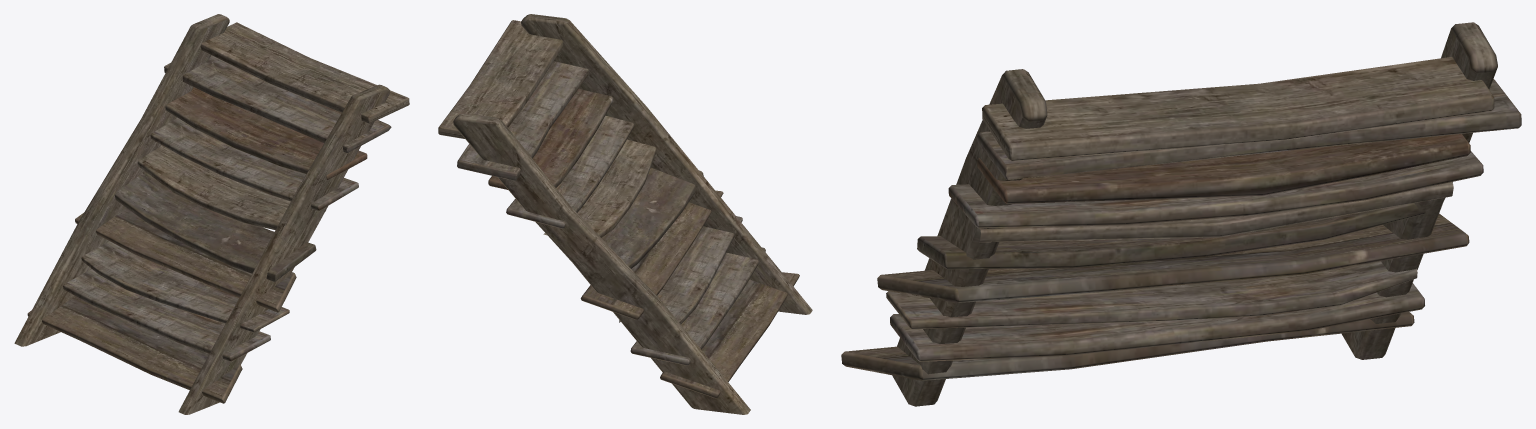
Rendered from Wooden_Stairs_01.glb.
The picture shows the model from 3 angles, left to right: view 1: azimuth 30°, elevation 25°; view 2: azimuth 150°, elevation 25°; view 3: azimuth 270°, elevation 25°; orthographic projection. The views are drawn at different scales.
Parts seen in each view (by area): view 1: SM_Wooden_Stairs_01; view 2: SM_Wooden_Stairs_01; view 3: SM_Wooden_Stairs_01.
Boxes of the visible parts, <box> form: SM_Wooden_Stairs_01: <box>14,14,409,414</box>; SM_Wooden_Stairs_01: <box>438,14,812,414</box>; SM_Wooden_Stairs_01: <box>841,22,1521,406</box>.
Bounding box in the file's own units: 2.82 × 2.15 × 2.69.
Materials: 1 (1 with a texture image).
